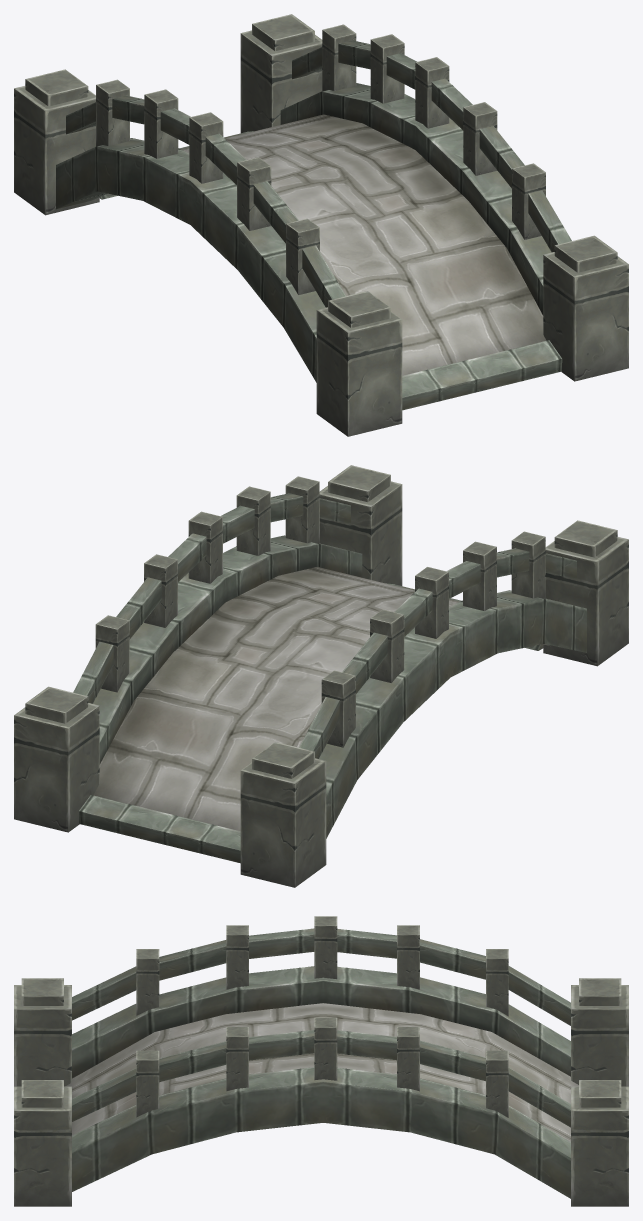
Rendered from bridge_04a_02.fbx.
3 views of the same model, one above another, from view 1: azimuth 30°, elevation 25°; view 2: azimuth 150°, elevation 25°; view 3: azimuth 270°, elevation 25° (orthographic). The views are drawn at different scales.
Parts seen in each view (by area): view 1: bridge_04a_02; view 2: bridge_04a_02; view 3: bridge_04a_02.
Boxes of the visible parts, x1,y1,x2,y2 form: bridge_04a_02: [14, 14, 628, 436]; bridge_04a_02: [14, 465, 628, 887]; bridge_04a_02: [14, 916, 628, 1206].
Size of the model in its own units: 3.04 by 1.93 by 6.27.
